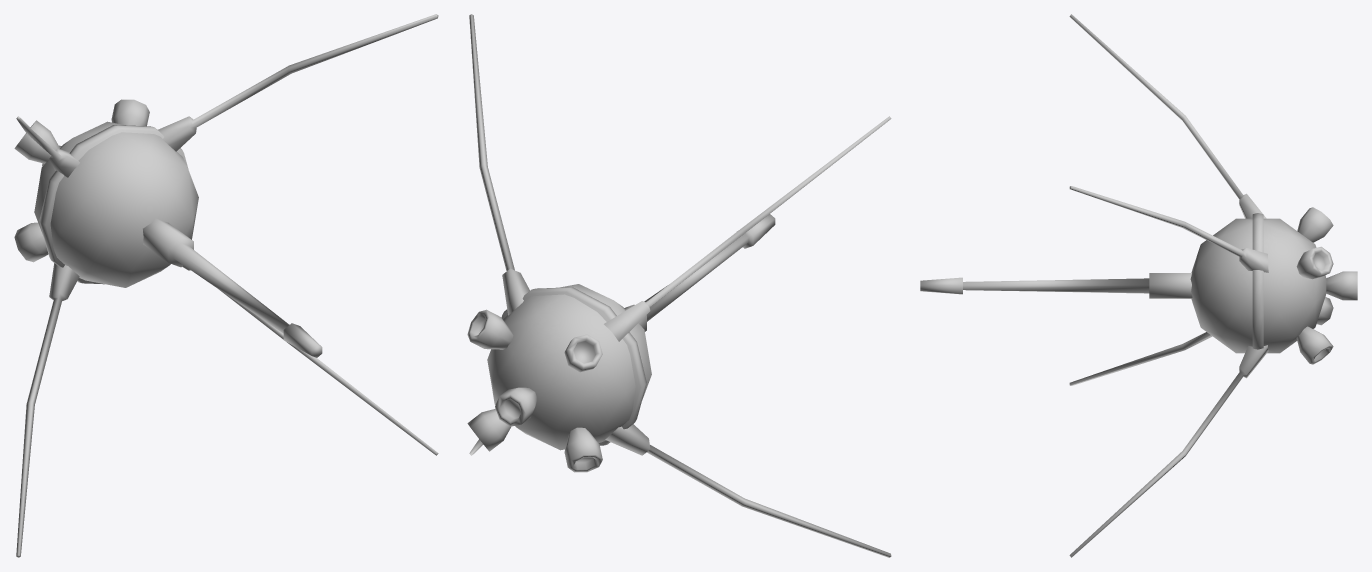
The model's file is enemy_model_3.glb.
3 renders of one model, left to right at view 1: azimuth 30°, elevation 25°; view 2: azimuth 150°, elevation 25°; view 3: azimuth 270°, elevation 25°, orthographic. The views are drawn at different scales.
Visible parts, largest first — view 1: Icosphere; view 2: Icosphere; view 3: Icosphere.
Boxes of the visible parts, <box> form: Icosphere: <box>14,14,438,557</box>; Icosphere: <box>467,14,891,557</box>; Icosphere: <box>920,14,1357,557</box>.
Size of the model in its own units: 5.79 by 5.79 by 6.17.
1 material, 1 textured.
